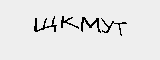К: (59, 15, 78, 31)
М: (80, 15, 100, 33)
Т: (112, 19, 129, 35)
У: (102, 17, 115, 35)
Щ: (32, 15, 56, 32)
